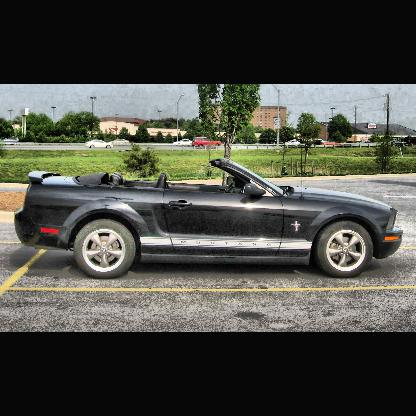Ford Mustang Convertible 2007: (16, 139, 402, 279)
